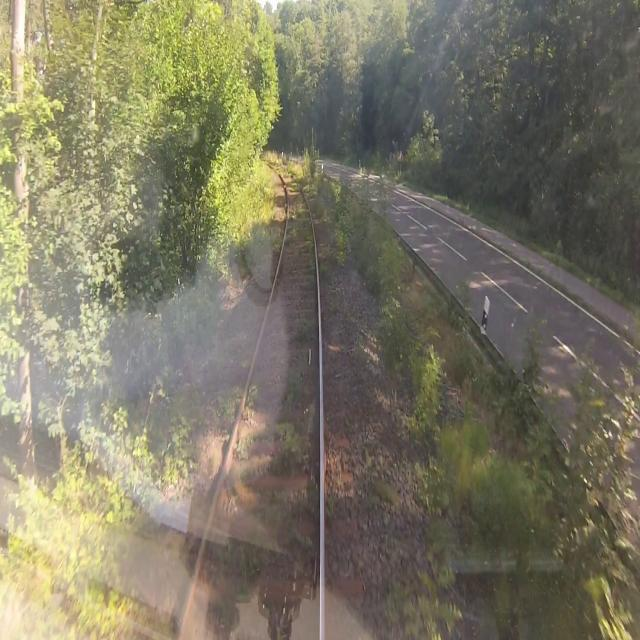Plant: (117, 431, 202, 639), (413, 460, 452, 594), (389, 572, 465, 639), (220, 519, 265, 577), (272, 200, 316, 254), (233, 386, 264, 462), (312, 203, 350, 264), (258, 151, 289, 225), (274, 418, 307, 473), (283, 161, 320, 199), (211, 384, 242, 427), (287, 359, 309, 412), (373, 473, 397, 508), (287, 523, 312, 553), (297, 316, 313, 344)
